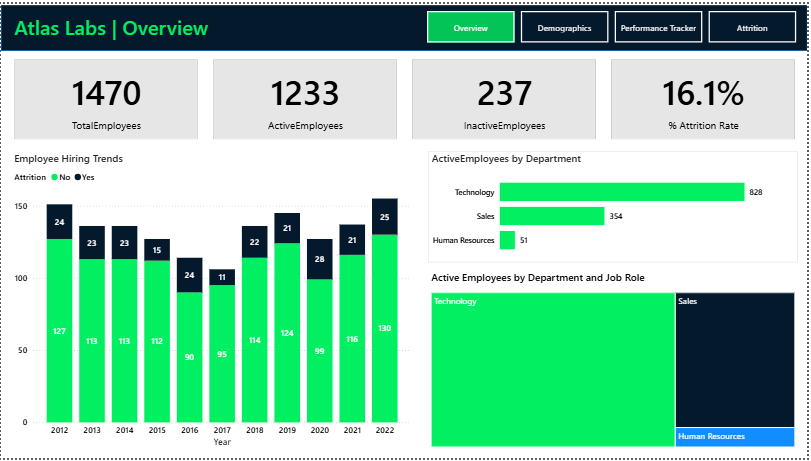

The page's visual inventory and layout, read from the dashboard file:
{"tool":"powerbi","page":{"name":"Overview","canvas":[1280,720],"ordinal":0},"visuals":[{"type":"cardVisual","fields":{"Data":["_Measures.TotalEmployees","_Measures.ActiveEmployees","_Measures.InactiveEmployees","_Measures.% Attrition Rate"]},"box":[15.1,83.2,1249.7,137.7],"z":0},{"type":"columnChart","title":"Employee Hiring Trends","fields":{"Category":["DimDate.Date.Variation.Date Hierarchy.Year"],"Y":["_Measures.TotalEmployeesDate"],"Series":["DimEmployee.Attrition"]},"box":[16.6,233,640,475.1],"z":1000},{"type":"clusteredBarChart","fields":{"Y":["_Measures.ActiveEmployees"],"Category":["DimEmployee.Department"]},"box":[677.8,233,587,177],"z":2000},{"type":"treemap","title":"Active Employees by Department and Job Role","fields":{"Group":["DimEmployee.Department","DimEmployee.JobRole"],"Values":["_Measures.ActiveEmployees"]},"box":[677.8,422.1,587,286],"z":3000},{"type":"shape","box":[0,2,1280,72.6],"z":4000},{"type":"textbox","box":[16.6,9.6,334.4,56],"z":5000},{"type":"pageNavigator","box":[677,11.8,586.8,50.3],"z":6001}]}

Visuals, with their boxes in screenshot pixels (x1, y1, x2, y2), scaled from the page's 1280x720 canvas onto the 811x461 screenshot:
cardVisual - _Measures.TotalEmployees x _Measures.ActiveEmployees: {"left": 10, "top": 53, "right": 801, "bottom": 141}
"Employee Hiring Trends" columnChart: {"left": 11, "top": 149, "right": 416, "bottom": 453}
clusteredBarChart - _Measures.ActiveEmployees x DimEmployee.Department: {"left": 429, "top": 149, "right": 801, "bottom": 263}
"Active Employees by Department and Job Role" treemap: {"left": 429, "top": 270, "right": 801, "bottom": 453}
shape: {"left": 0, "top": 1, "right": 810, "bottom": 48}
textbox: {"left": 11, "top": 6, "right": 222, "bottom": 42}
pageNavigator: {"left": 429, "top": 8, "right": 801, "bottom": 40}
